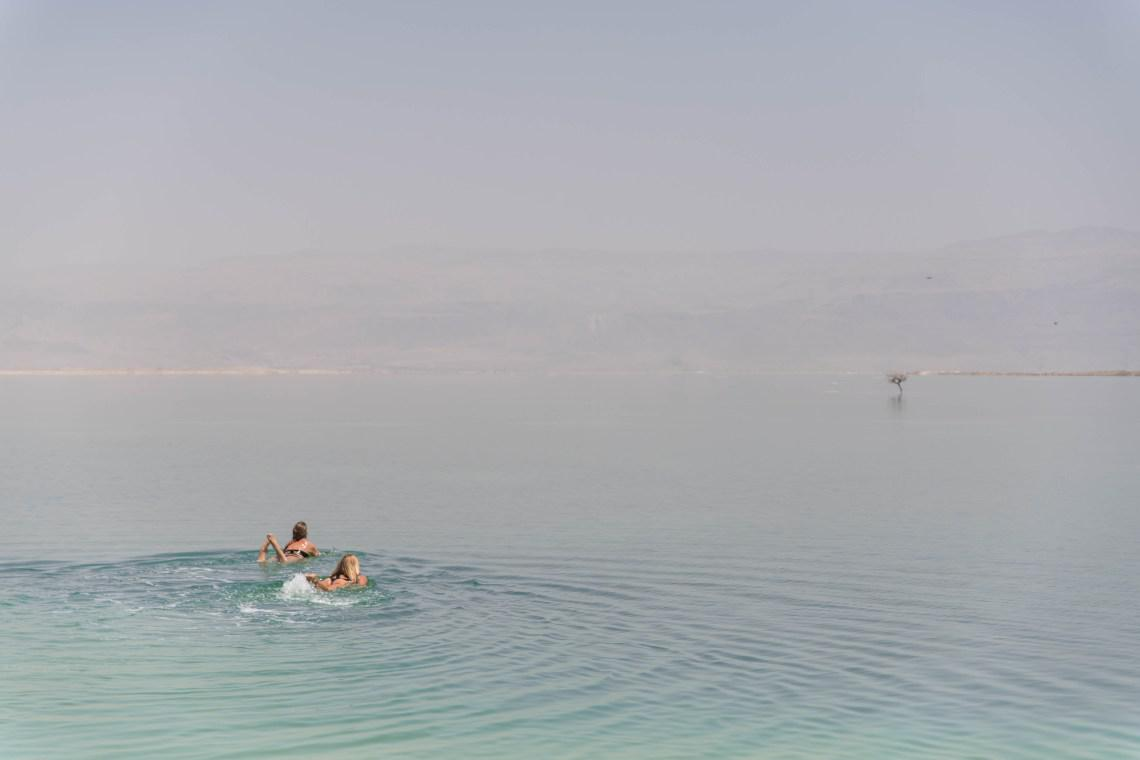human: (305, 551, 367, 594), (256, 522, 316, 564)
